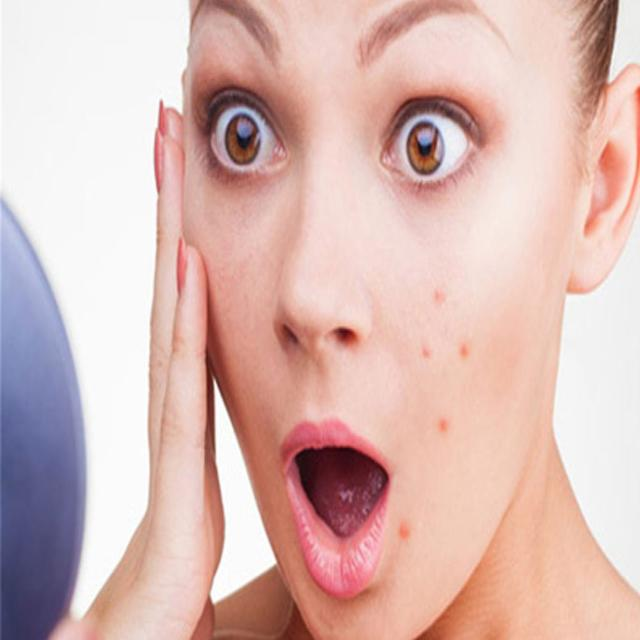Acne: (394, 280, 472, 554)
